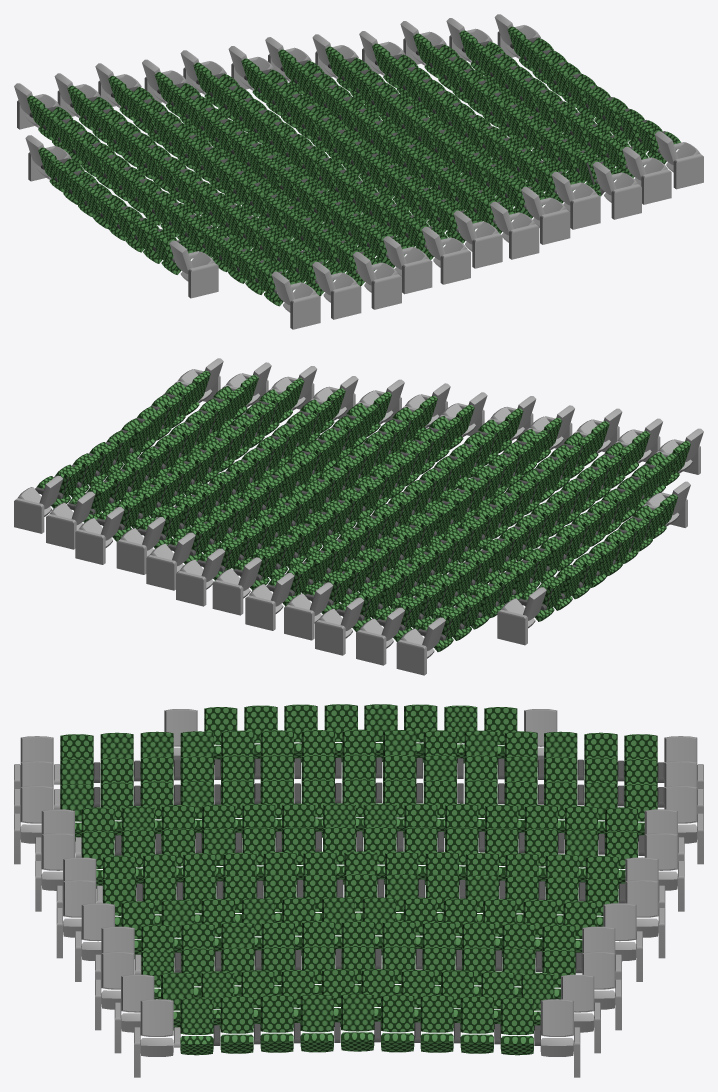
The model's file is m_theater_chair_centerAisle_high_r.fbx.
The picture shows the model from 3 angles, top to bottom: view 1: azimuth 30°, elevation 25°; view 2: azimuth 150°, elevation 25°; view 3: azimuth 270°, elevation 25°; orthographic projection. The views are drawn at different scales.
Visible parts, largest first — view 1: polySurface1076; view 2: polySurface1076; view 3: polySurface1076.
Boxes of the visible parts, x1,y1,x2,y2 form: polySurface1076: (14,14,703,329); polySurface1076: (14,358,703,675); polySurface1076: (14,704,703,1077).
Size of the model in its own units: 148 by 13 by 136.
